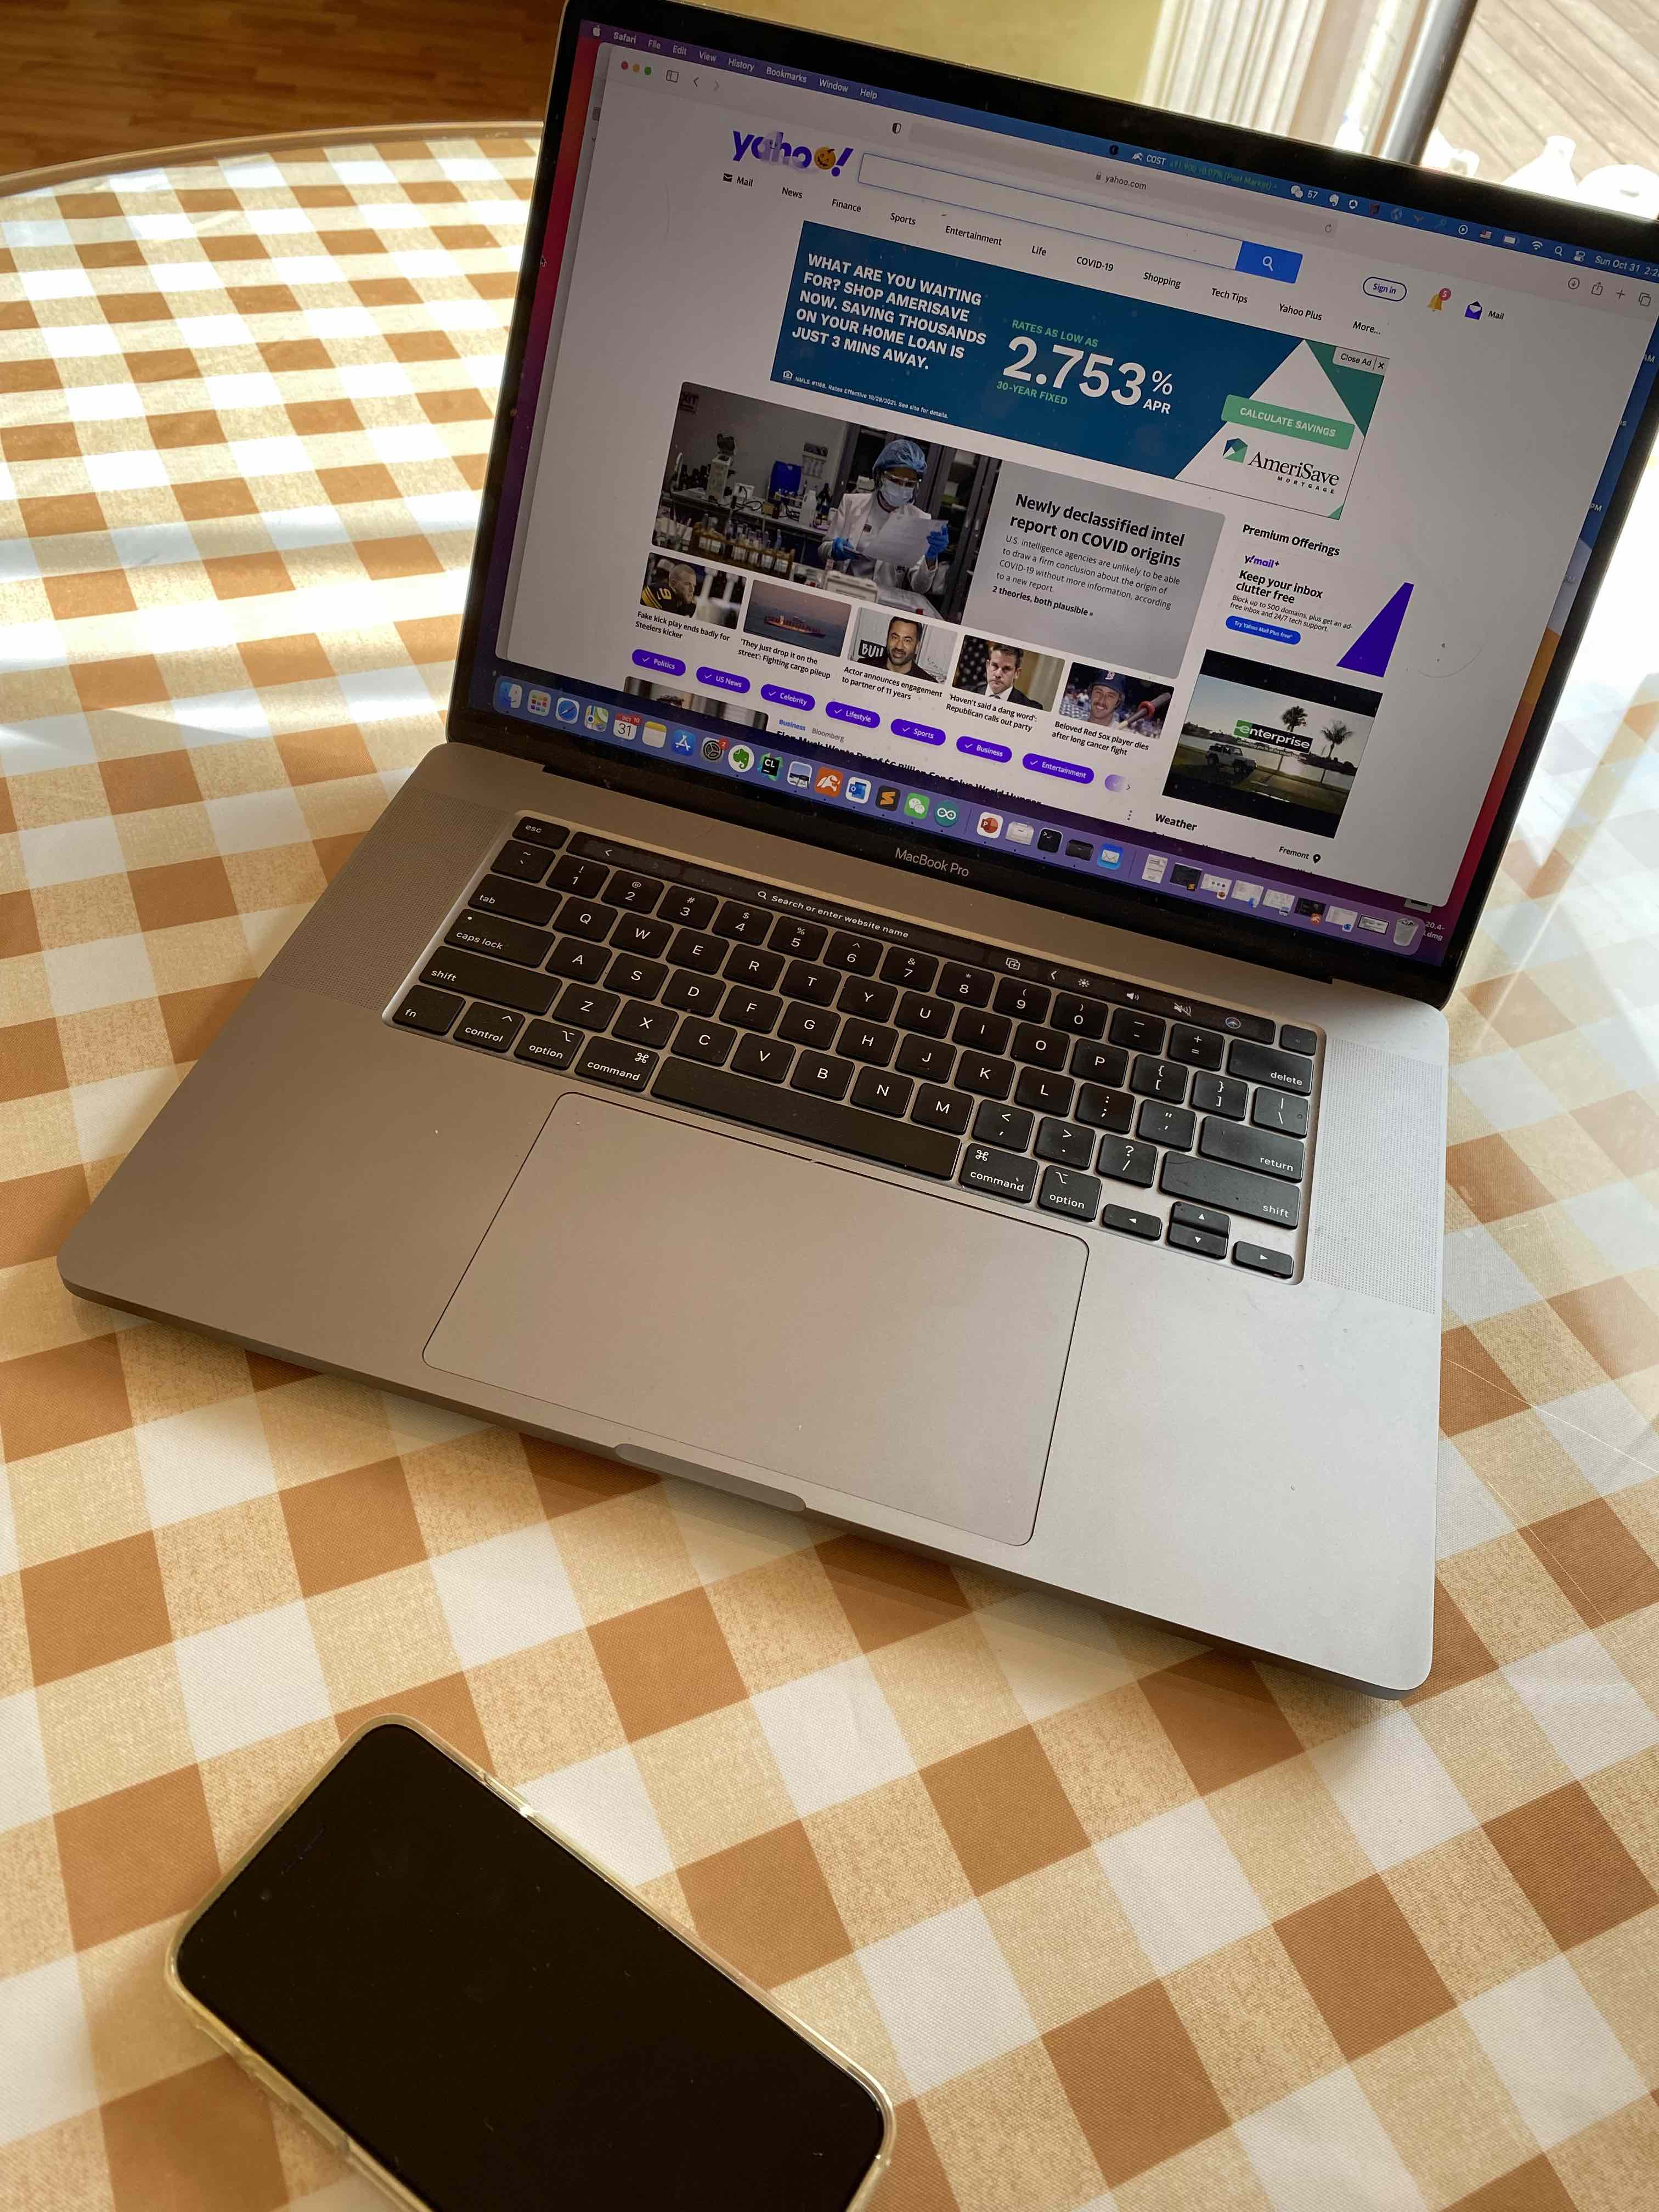Cell Phone: (166, 1719, 903, 2212)
